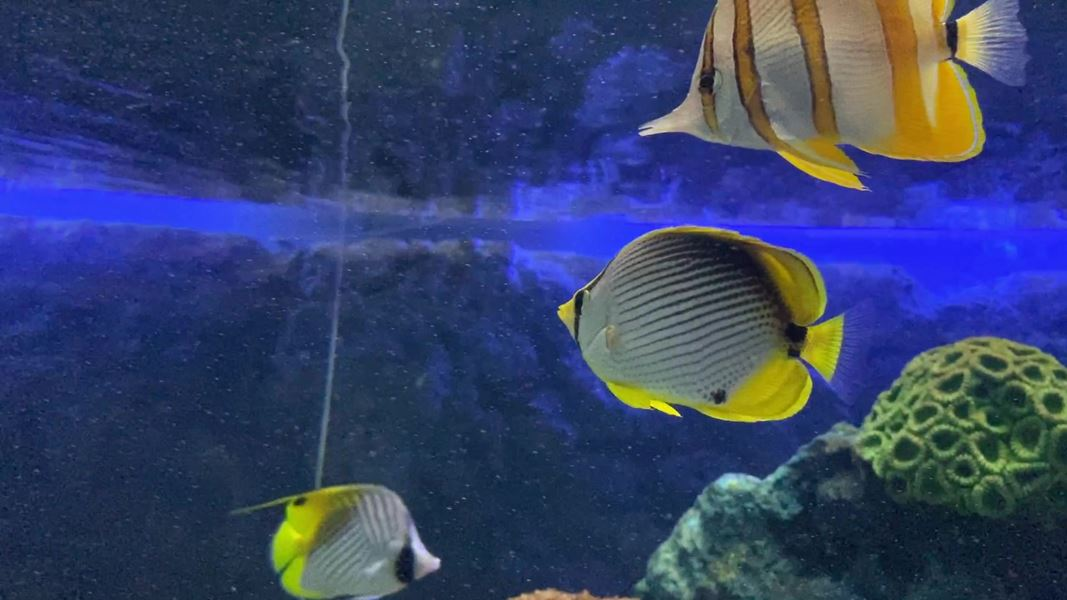Black-backed butterflyfish: (551, 215, 893, 440)
